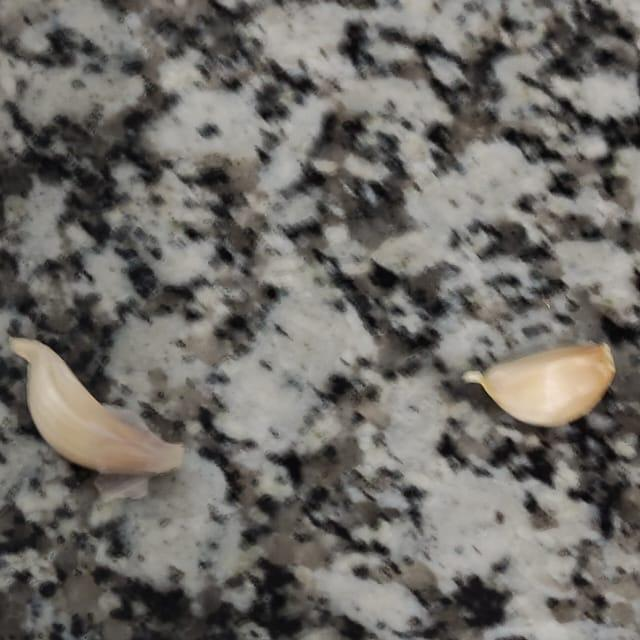garlic: (0, 312, 220, 509), (426, 282, 640, 459)
